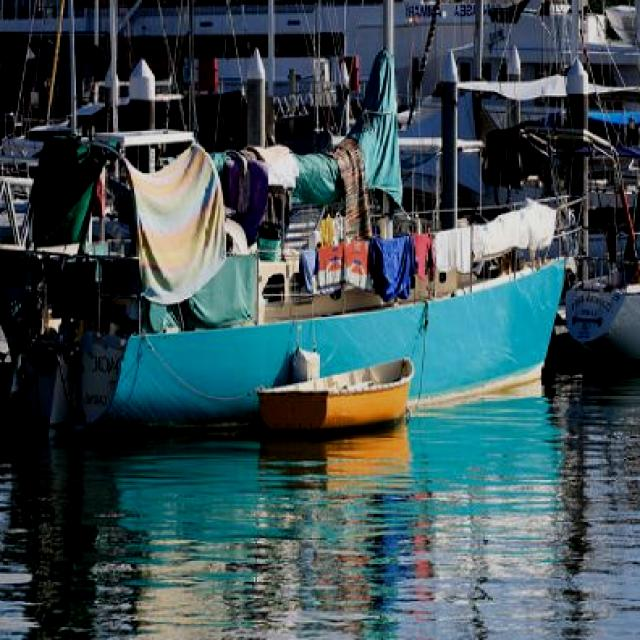ship: (1, 0, 584, 453), (257, 356, 417, 436)
